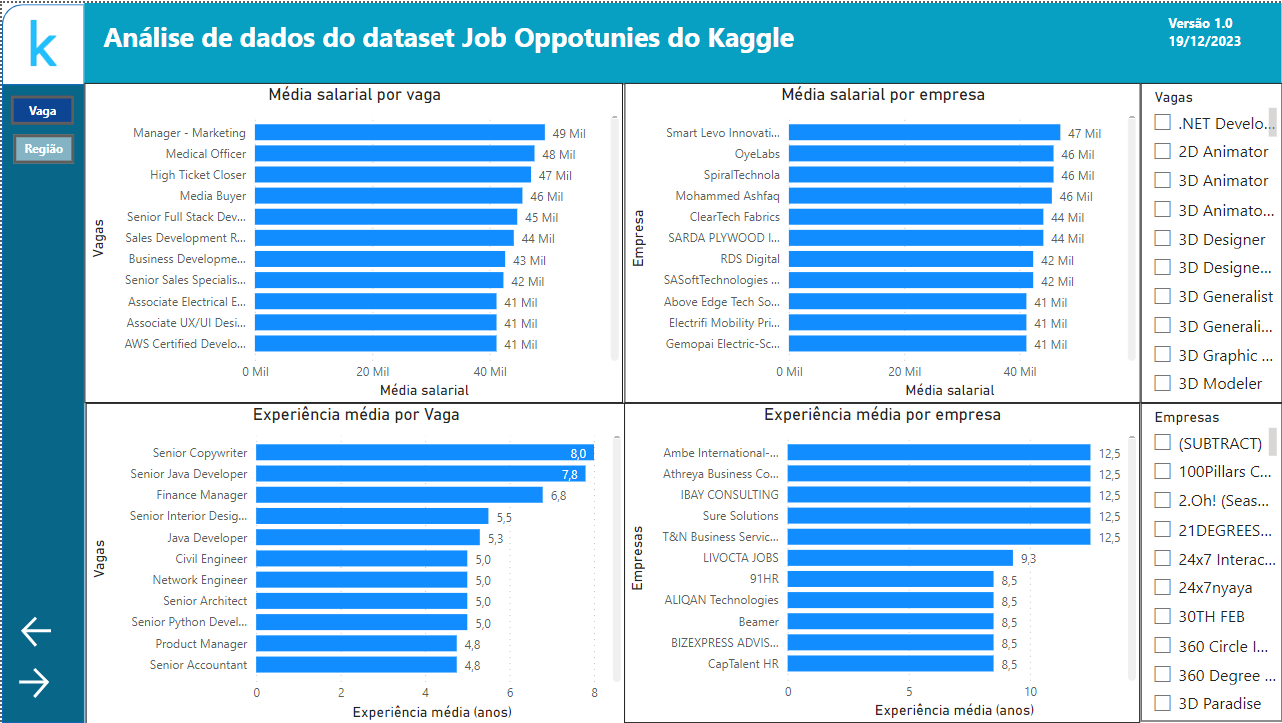

Layout of this report page (visuals, bound fields, positions):
{"tool":"powerbi","page":{"name":"Expectativa de Salário e Experiência","canvas":[1280,720],"ordinal":1},"visuals":[{"type":"shape","box":[0,1.2,82.5,81.2],"z":0},{"type":"shape","box":[0,80.9,82.3,638.9],"z":1000},{"type":"shape","box":[82.9,0,1197.1,81.4],"z":2000},{"type":"clusteredBarChart","title":"Média salarial por vaga","fields":{"Category":["job_dataset.job_title"],"Y":["job_dataset.ctc_mean(R$)*"]},"box":[82.9,80,538.6,320],"z":3000},{"type":"textbox","box":[96.2,10,720,45],"z":4000},{"type":"textbox","box":[1161.4,5.7,108.6,48.6],"z":5000},{"type":"image","box":[11.2,0,61.2,80],"z":6000},{"type":"actionButton","box":[11.2,660,52.5,40],"z":7000},{"type":"actionButton","box":[15,608.8,43.8,40],"z":8000},{"type":"clusteredBarChart","title":"Média salarial por empresa","fields":{"Y":["job_dataset.ctc_mean(R$)*"],"Category":["job_dataset.company_name"]},"box":[622.9,80,515.7,320],"z":10000},{"type":"clusteredBarChart","title":"Experiência média por Região","fields":{"Y":["job_dataset.expeience_mean(years)"],"Category":["job_dataset.location"]},"box":[83.5,399.5,539,320.1],"z":11000},{"type":"actionButton","title":"*Região","box":[11,130.8,61.1,29.3],"z":12000},{"type":"clusteredBarChart","title":"Experiência média por empresa","fields":{"Category":["job_dataset.company_name"],"Y":["job_dataset.expeience_mean(years)"]},"box":[621.4,400,517.1,320],"z":13000},{"type":"slicer","fields":{"Values":["job_dataset.job_title"]},"box":[1138.6,80,141.4,320],"z":15000},{"type":"slicer","fields":{"Values":["job_dataset.company_name"]},"box":[1138.6,400,141.4,318.6],"z":16000},{"type":"actionButton","title":"Vaga","box":[8.6,92.9,63.6,29.3],"z":21000},{"type":"clusteredBarChart","title":"Experiência média por Vaga","fields":{"Y":["job_dataset.expeience_mean(years)"],"Category":["job_dataset.job_title"]},"box":[84.3,399.4,539.5,321.2],"z":21004}]}

Visuals, with their boxes on the page's 1280x720 design canvas (x1, y1, x2, y2). These are canvas units, not pixel positions in the 1282x723 screenshot, which may show the page scaled, cropped or inside an application window:
shape: (0, 1, 82, 82)
shape: (0, 81, 82, 720)
shape: (83, 0, 1280, 81)
"Média salarial por vaga" clusteredBarChart: (83, 80, 622, 400)
textbox: (96, 10, 816, 55)
textbox: (1161, 6, 1270, 54)
image: (11, 0, 72, 80)
actionButton: (11, 660, 64, 700)
actionButton: (15, 609, 59, 649)
"Média salarial por empresa" clusteredBarChart: (623, 80, 1139, 400)
"Experiência média por Região" clusteredBarChart: (84, 400, 622, 720)
"*Região" actionButton: (11, 131, 72, 160)
"Experiência média por empresa" clusteredBarChart: (621, 400, 1138, 720)
slicer - job_dataset.job_title: (1139, 80, 1280, 400)
slicer - job_dataset.company_name: (1139, 400, 1280, 719)
"Vaga" actionButton: (9, 93, 72, 122)
"Experiência média por Vaga" clusteredBarChart: (84, 399, 624, 721)
